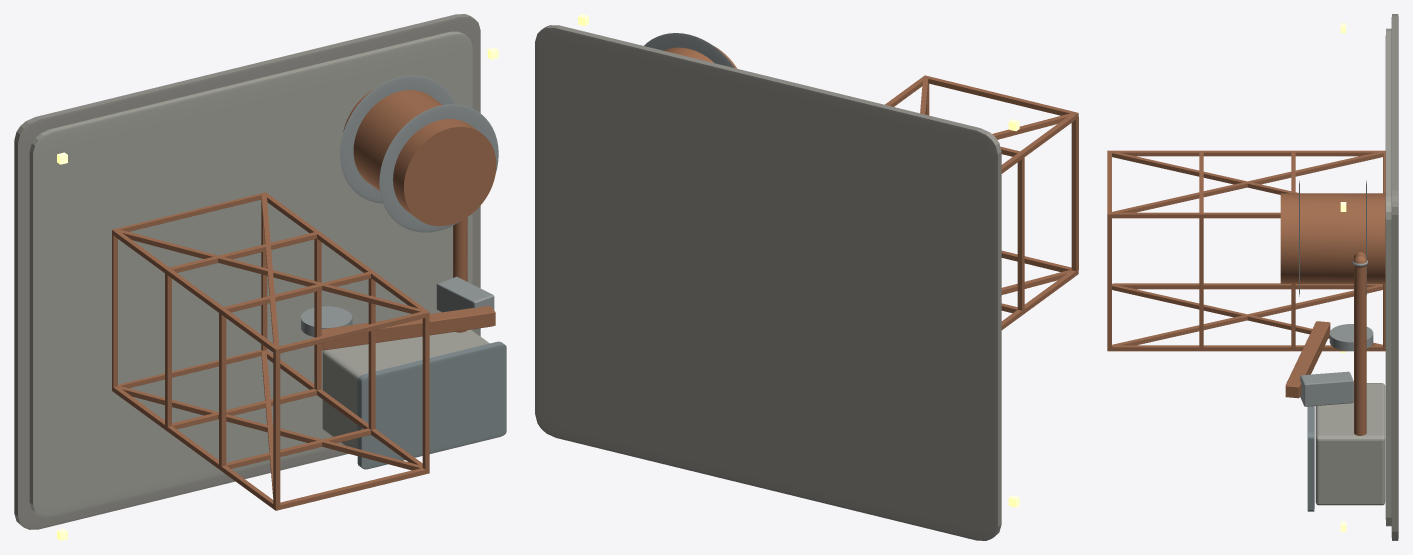
Rendered from b-46-neutral-oil-derrick-lod1.glb.
The picture shows the model from 3 angles, left to right: view 1: azimuth 30°, elevation 25°; view 2: azimuth 150°, elevation 25°; view 3: azimuth 270°, elevation 25°; orthographic projection. The views are drawn at different scales.
Parts seen in each view (by area): view 1: foundation_inner_pad, foundation, pump_house_roof, oil_storage_tank_vessel, pump_house_main_hall, oil_storage_tank_ring_high, oil_storage_tank_ring_low, pumpjack_beam, primary_oil_derrick_brace_a_2.1, primary_oil_derrick_brace_a_-2.1, primary_oil_derrick_column_w_n, primary_oil_derrick_column_w_s (+23 smaller); view 2: foundation, primary_oil_derrick_beam_y_3_w, primary_oil_derrick_beam_y_2_w, oil_storage_tank_ring_high, primary_oil_derrick_beam_x_3_n, primary_oil_derrick_column_w_n, primary_oil_derrick_column_w_s; view 3: oil_storage_tank_vessel, pump_house_main_hall, foundation, foundation_inner_pad, oil_export_pipe_segment_2, primary_oil_derrick_column_w_n, primary_oil_derrick_brace_a_2.1, pumpjack_horsehead, primary_oil_derrick_brace_a_-2.1, primary_oil_derrick_column_e_s, primary_oil_derrick_column_w_s, pumpjack_beam (+7 smaller).
Boxes of the visible parts, x1,y1,x2,y2 form: foundation_inner_pad: (29,31,472,517); foundation: (14,14,480,529); pump_house_roof: (357,341,506,469); oil_storage_tank_vessel: (343,88,496,226); pump_house_main_hall: (322,329,489,448); oil_storage_tank_ring_high: (379,104,498,232); oil_storage_tank_ring_low: (340,75,455,203); pumpjack_beam: (321,306,495,350); primary_oil_derrick_brace_a_2.1: (117,229,423,313); primary_oil_derrick_brace_a_-2.1: (117,386,422,470); primary_oil_derrick_column_w_n: (113,230,276,351); primary_oil_derrick_column_w_s: (113,386,273,508); foundation: (535,25,1001,540); primary_oil_derrick_beam_y_3_w: (1071,112,1078,271); primary_oil_derrick_beam_y_2_w: (1017,152,1024,310); oil_storage_tank_ring_high: (644,33,734,67); primary_oil_derrick_beam_x_3_n: (926,76,1078,118); primary_oil_derrick_column_w_n: (1001,114,1076,173); primary_oil_derrick_column_w_s: (1001,270,1076,329); oil_storage_tank_vessel: (1280,193,1385,283); pump_house_main_hall: (1315,383,1385,505); foundation: (1391,14,1398,540); foundation_inner_pad: (1385,28,1391,526); oil_export_pipe_segment_2: (1354,266,1366,435); primary_oil_derrick_column_w_n: (1111,150,1383,156); primary_oil_derrick_brace_a_2.1: (1111,152,1383,212); pumpjack_horsehead: (1300,371,1353,406); primary_oil_derrick_brace_a_-2.1: (1112,285,1382,345); primary_oil_derrick_column_e_s: (1111,345,1383,351); primary_oil_derrick_column_w_s: (1112,283,1382,289); pumpjack_beam: (1285,321,1330,398).
Size of what is drawn, in the model's own units: 13 by 11 by 8.35.
